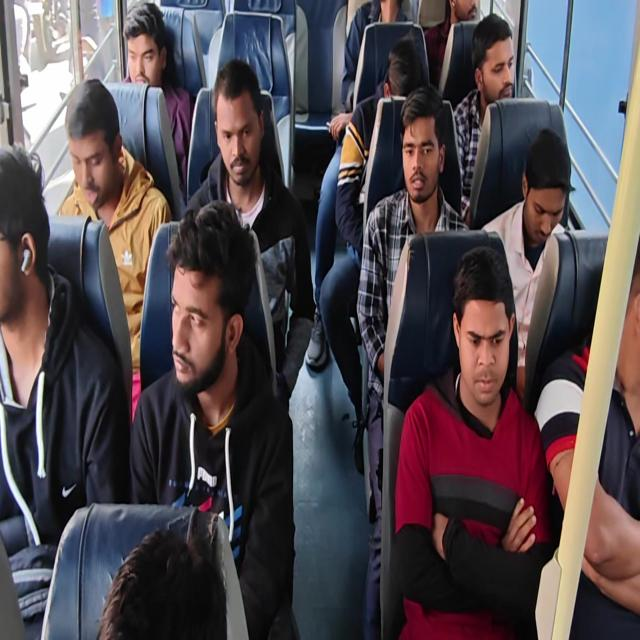person: (1, 1, 638, 638), (128, 199, 298, 638), (0, 141, 130, 637), (394, 245, 554, 638), (356, 84, 469, 637), (318, 38, 426, 473), (184, 58, 315, 409), (534, 233, 640, 638), (57, 78, 173, 422), (480, 127, 574, 403), (96, 526, 228, 639), (120, 1, 192, 193), (452, 13, 516, 223), (340, 0, 410, 108), (423, 0, 479, 89)
